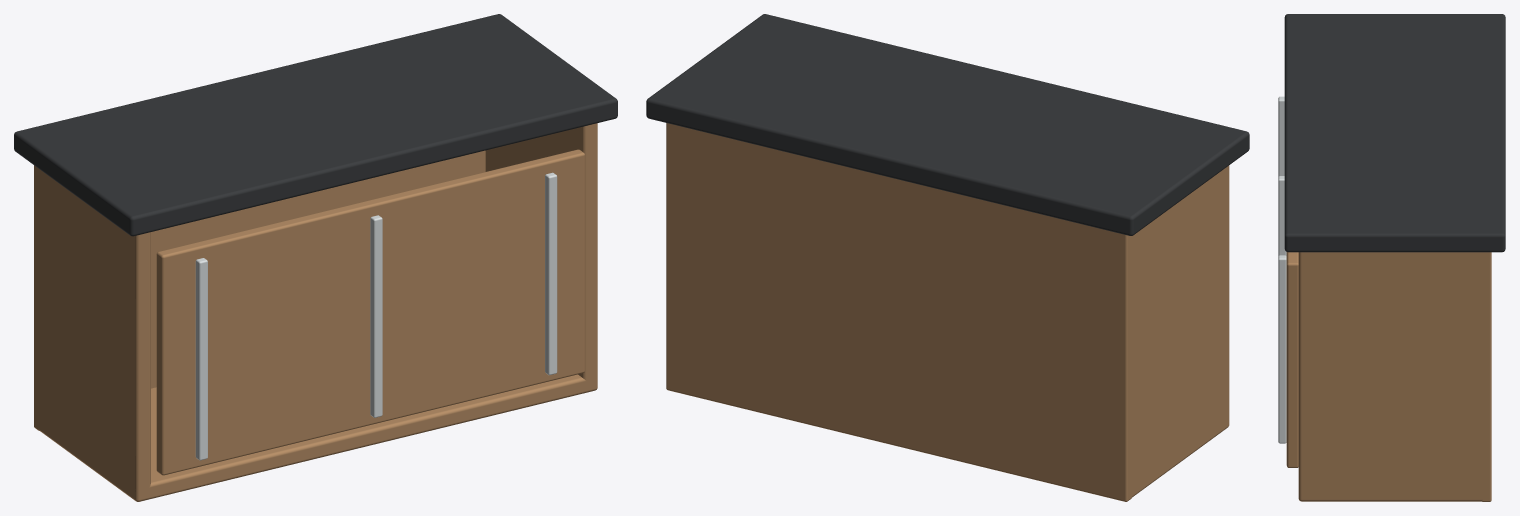
Rendered from supply.glb.
3 views of the same model, side by side, from view 1: azimuth 30°, elevation 25°; view 2: azimuth 150°, elevation 25°; view 3: azimuth 270°, elevation 25° (orthographic). The views are drawn at different scales.
Parts seen in each view (by area): view 1: reception-counter; view 2: reception-counter; view 3: reception-counter.
Boxes of the visible parts, box(x1,y1,x2,y2) form: reception-counter: box(14, 14, 617, 501); reception-counter: box(646, 14, 1249, 501); reception-counter: box(1278, 14, 1505, 501).
Bounding box in the file's own units: 1.9 × 1.09 × 0.823.
